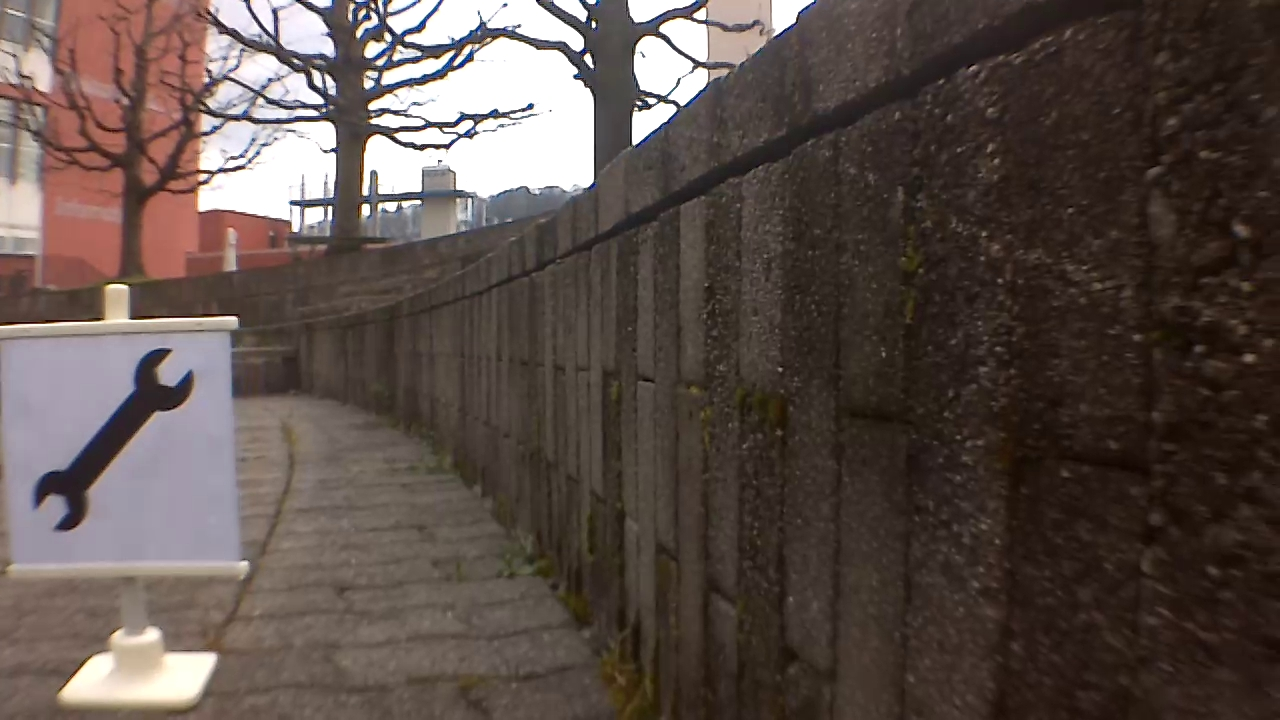wrench: (26, 351, 200, 533)
